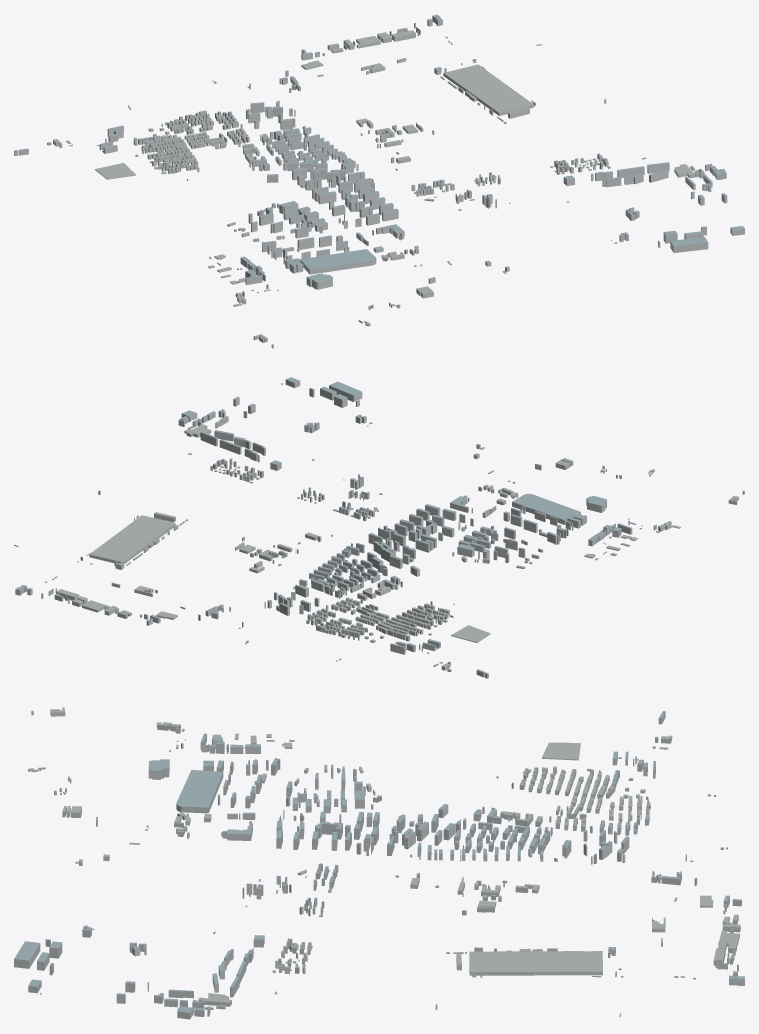
File: far.glb
The picture shows the model from 3 angles, top to bottom: view 1: azimuth 30°, elevation 25°; view 2: azimuth 150°, elevation 25°; view 3: azimuth 270°, elevation 25°; orthographic projection. The views are drawn at different scales.
Size of the model in its own units: 2122 by 37.1 by 2128.
